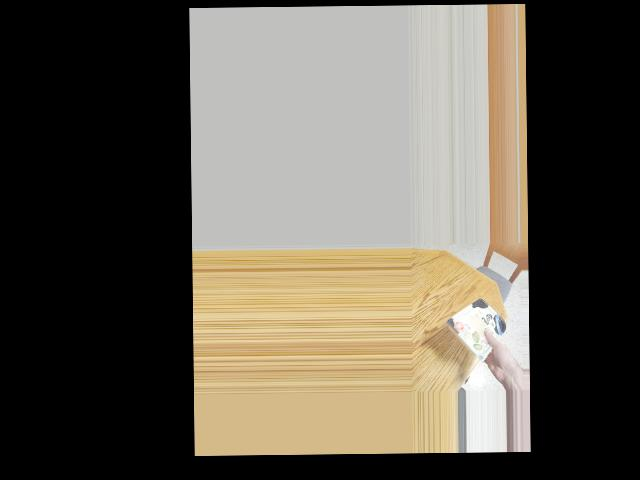cheese: (455, 299, 498, 356)
